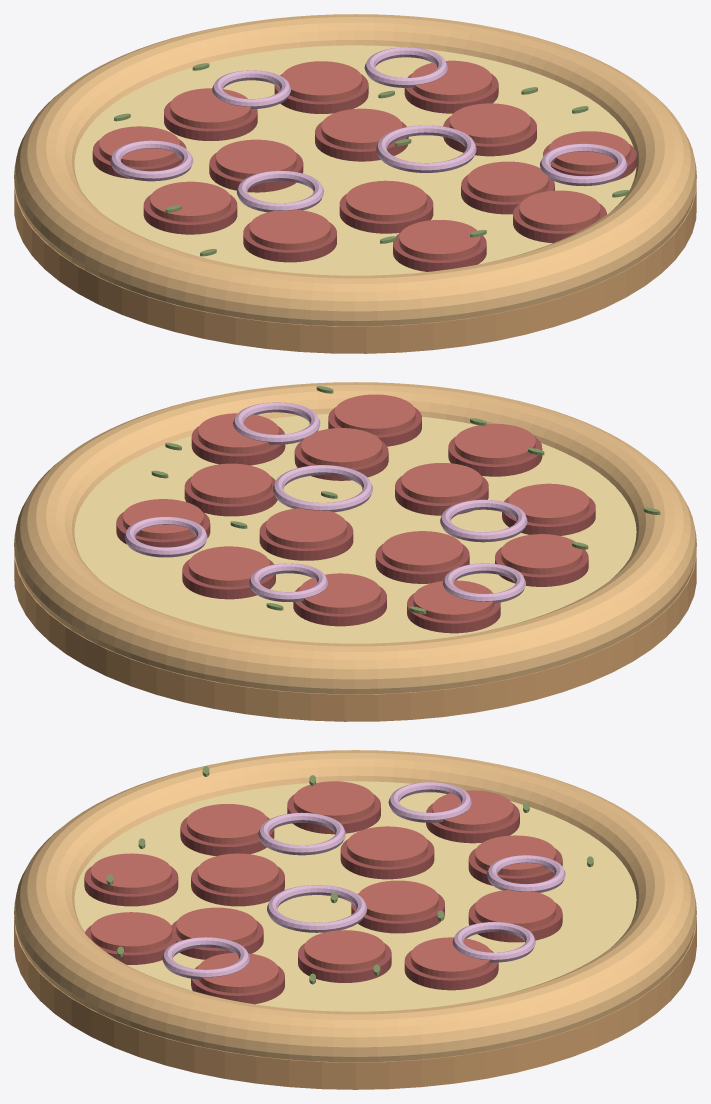
Rendered from pizza-calabresa.glb.
The picture shows the model from 3 angles, top to bottom: view 1: azimuth 30°, elevation 25°; view 2: azimuth 150°, elevation 25°; view 3: azimuth 270°, elevation 25°; orthographic projection.
Parts seen in each view (by area): view 1: crust_rim, cheese, pizza_base, calabresa_13, calabresa_9, calabresa_8, calabresa_12, calabresa_10, calabresa_4, calabresa_2, calabresa_7, calabresa_6 (+25 smaller); view 2: crust_rim, cheese, pizza_base, calabresa_9, calabresa_5, calabresa_7, calabresa_12, calabresa_6, calabresa_4, calabresa_10, calabresa_13, calabresa_8 (+25 smaller); view 3: crust_rim, cheese, pizza_base, calabresa_7, calabresa_9, calabresa_5, calabresa_13, calabresa_12, calabresa_8, calabresa_6, calabresa_4, calabresa_2 (+25 smaller).
Boxes of the visible parts, bbox=[...] form: crust_rim: bbox=[14, 14, 696, 326]; cheese: bbox=[74, 45, 636, 275]; pizza_base: bbox=[14, 183, 696, 353]; calabresa_13: bbox=[519, 190, 600, 230]; calabresa_9: bbox=[346, 180, 426, 221]; calabresa_8: bbox=[249, 209, 330, 249]; calabresa_12: bbox=[399, 220, 480, 260]; calabresa_10: bbox=[467, 161, 548, 201]; calabresa_4: bbox=[150, 181, 230, 222]; calabresa_2: bbox=[281, 61, 362, 101]; calabresa_7: bbox=[449, 103, 530, 143]; calabresa_6: bbox=[321, 108, 402, 149]; crust_rim: bbox=[14, 382, 696, 694]; cheese: bbox=[74, 414, 636, 643]; pizza_base: bbox=[14, 551, 696, 721]; calabresa_9: bbox=[401, 463, 482, 503]; calabresa_5: bbox=[382, 531, 463, 571]; calabresa_7: bbox=[191, 463, 271, 503]; calabresa_12: bbox=[454, 423, 535, 464]; calabresa_6: bbox=[266, 508, 346, 548]; calabresa_4: bbox=[501, 534, 582, 574]; calabresa_10: bbox=[301, 428, 382, 468]; calabresa_13: bbox=[334, 394, 415, 434]; calabresa_8: bbox=[508, 483, 589, 524]; crust_rim: bbox=[14, 750, 696, 1062]; cheese: bbox=[74, 781, 636, 1011]; pizza_base: bbox=[14, 917, 696, 1089]; calabresa_7: bbox=[304, 930, 385, 970]; calabresa_9: bbox=[197, 853, 278, 893]; calabresa_5: bbox=[347, 826, 427, 866]; calabresa_13: bbox=[91, 912, 171, 952]; calabresa_12: bbox=[91, 853, 171, 893]; calabresa_8: bbox=[187, 804, 267, 844]; calabresa_6: bbox=[358, 880, 438, 920]; calabresa_4: bbox=[293, 781, 374, 821]; calabresa_2: bbox=[475, 890, 555, 929].
Size of the model in its own units: 0.32 by 0.0347 by 0.32.
